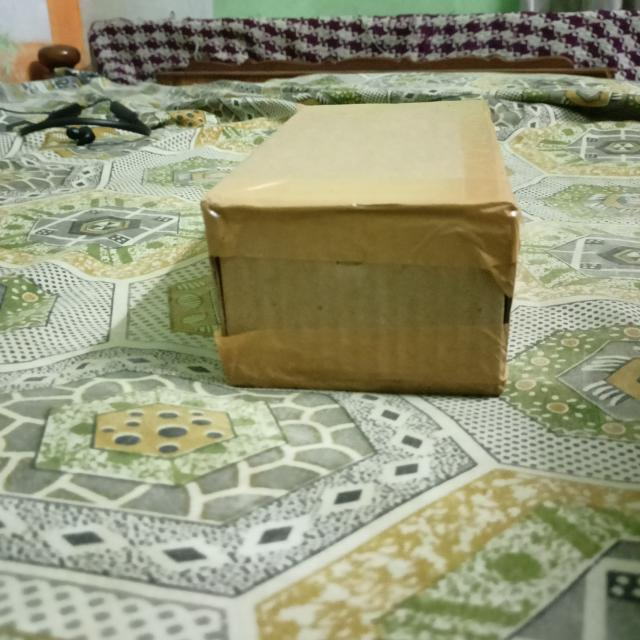box: (207, 207, 512, 395)
